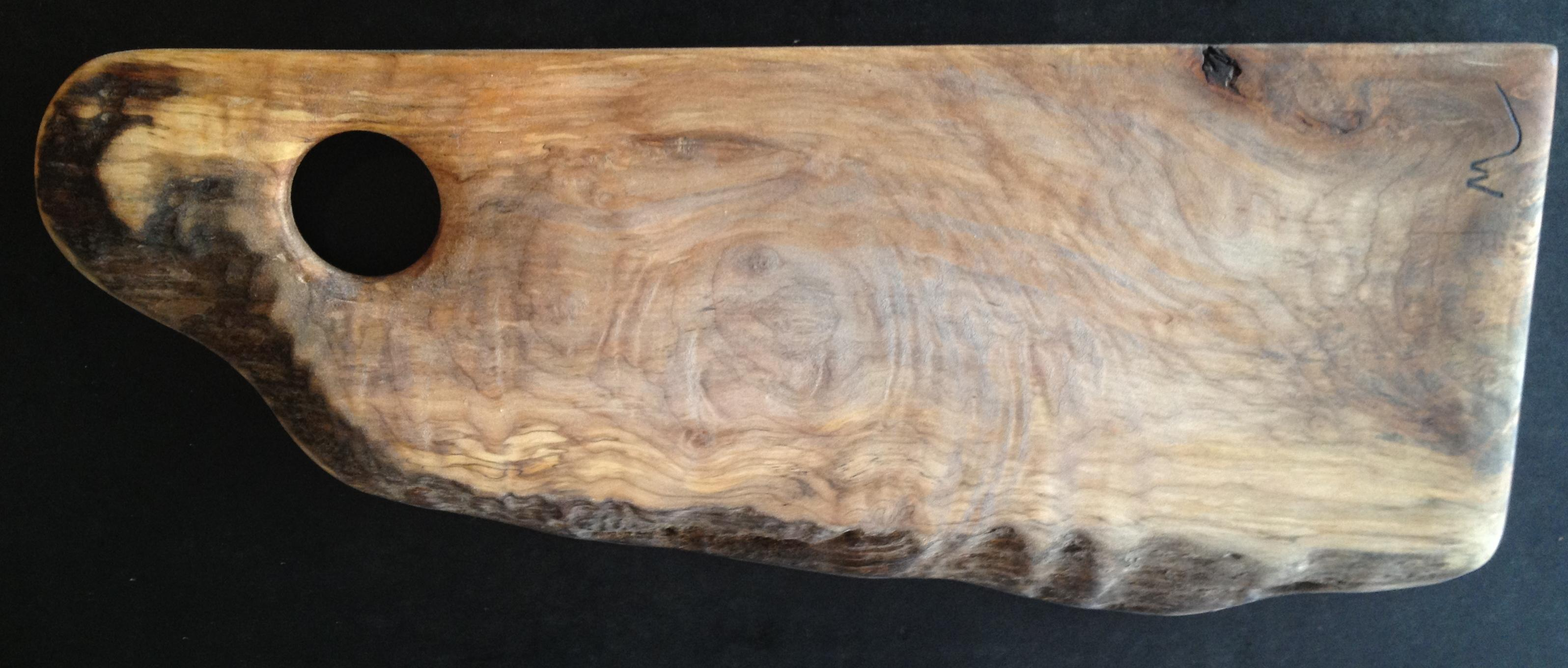gloved_hand: (9, 51, 1547, 639)
